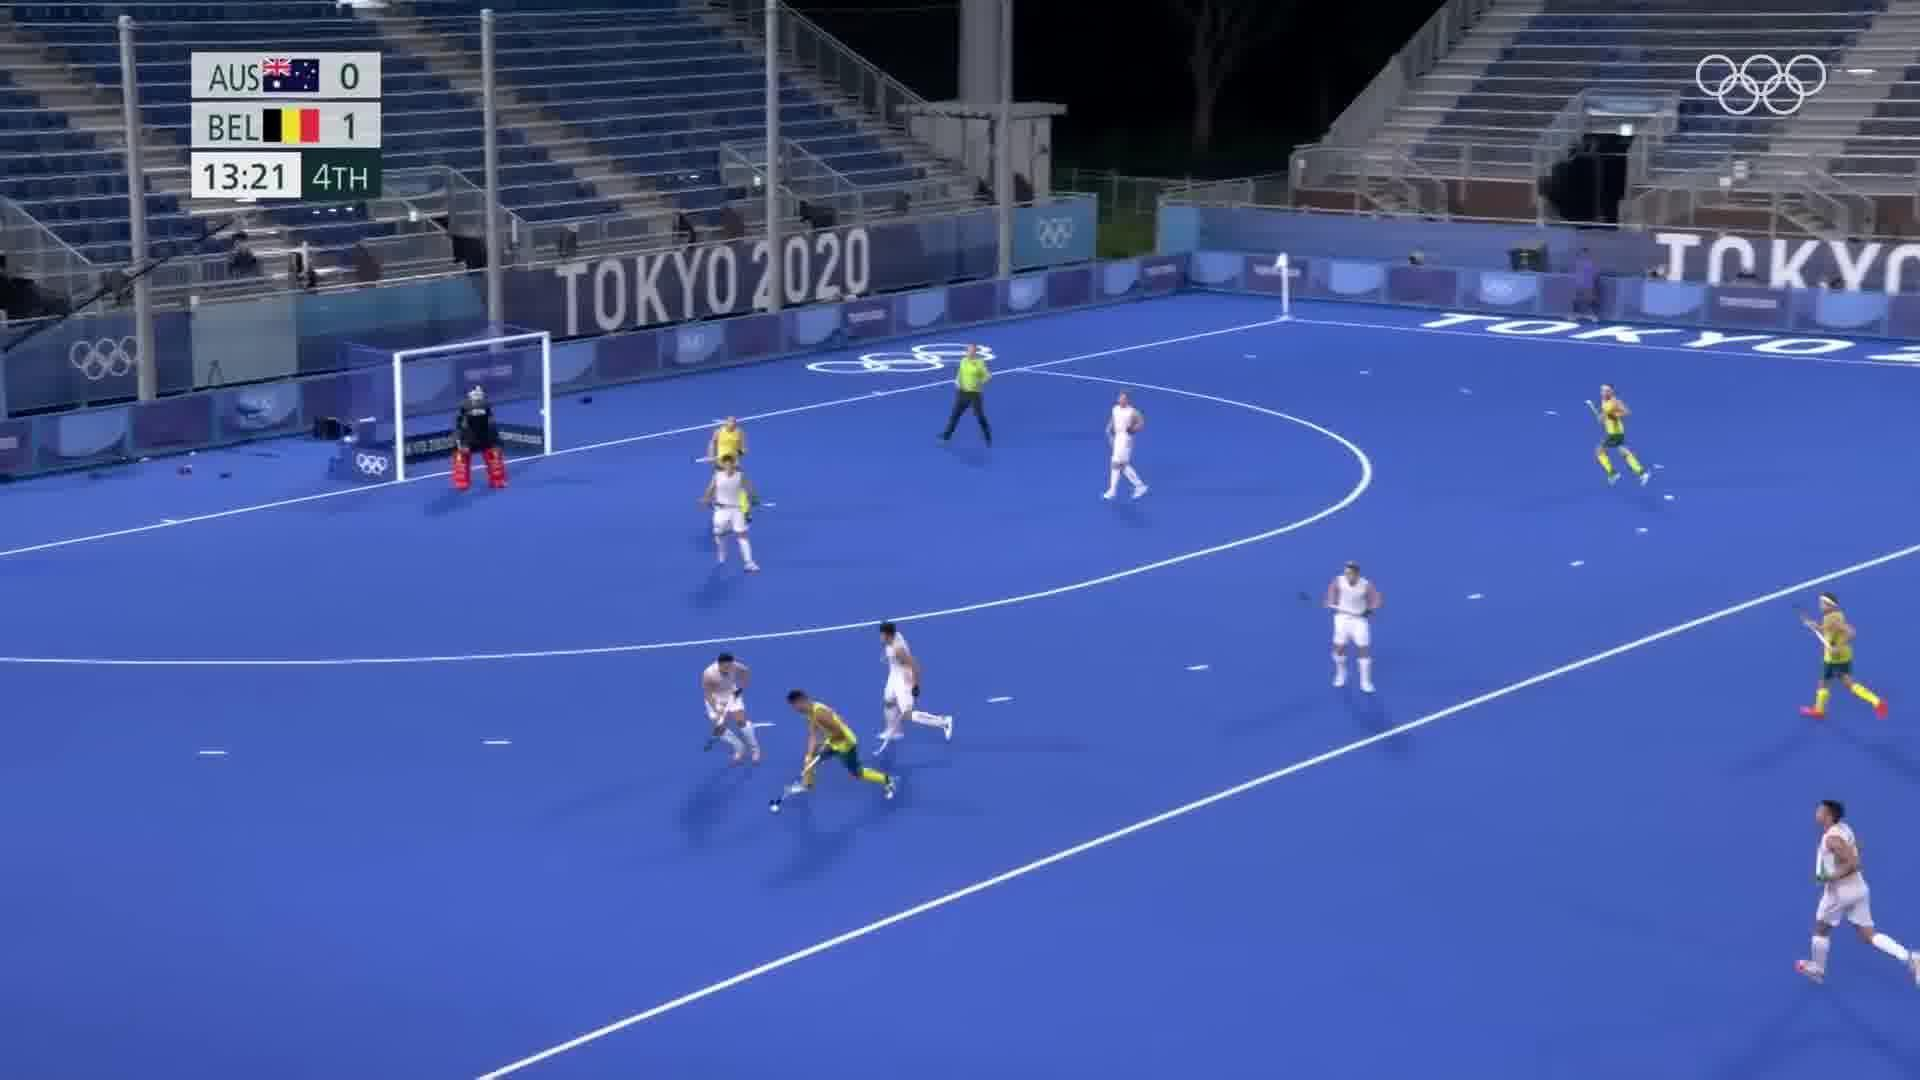ball: (764, 799, 786, 816)
